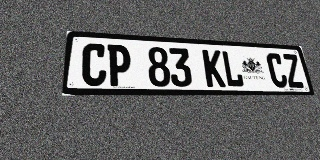3: (169, 48, 192, 87)
8: (147, 46, 171, 87)
C: (81, 43, 107, 86), (265, 53, 289, 88)
K: (202, 49, 226, 87)
L: (221, 50, 245, 87)
P: (107, 44, 131, 86)
Z: (281, 54, 305, 88)
